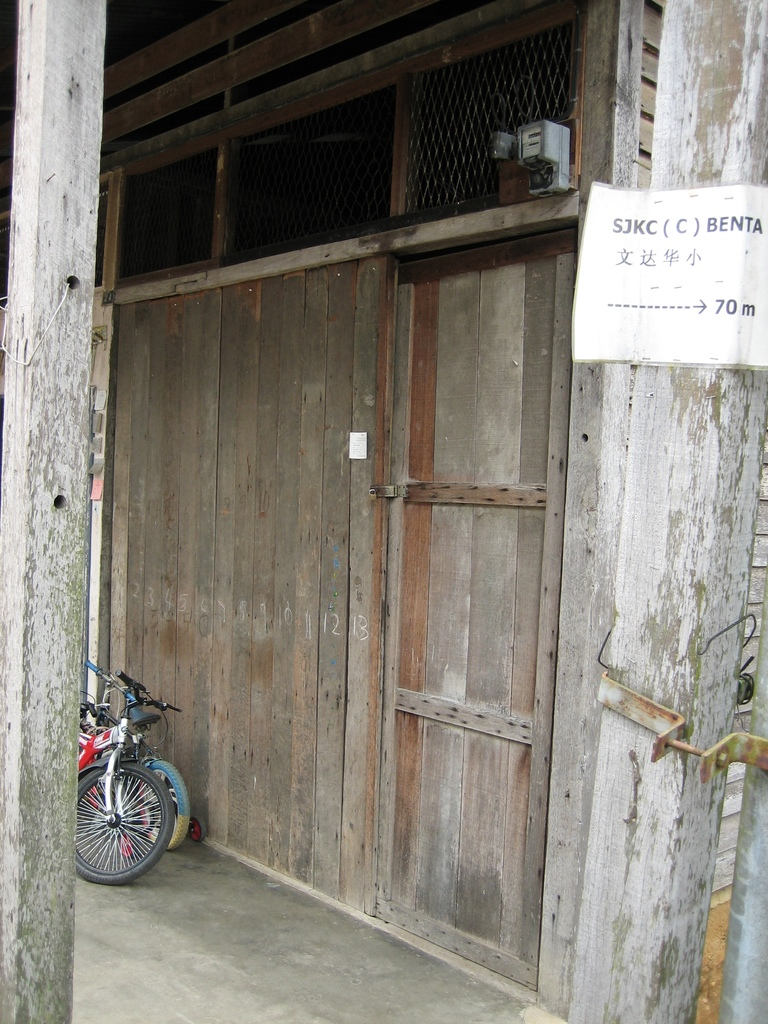door: (395, 279, 538, 950)
